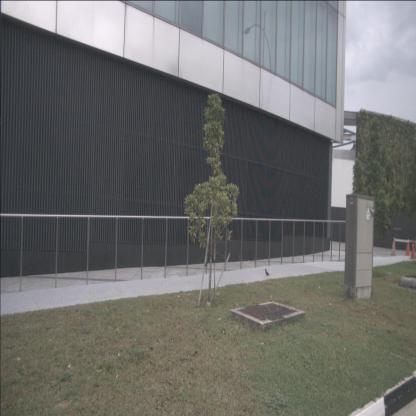movable_object-trafficcone: (408, 239, 416, 260), (404, 237, 411, 258), (390, 235, 396, 258)
